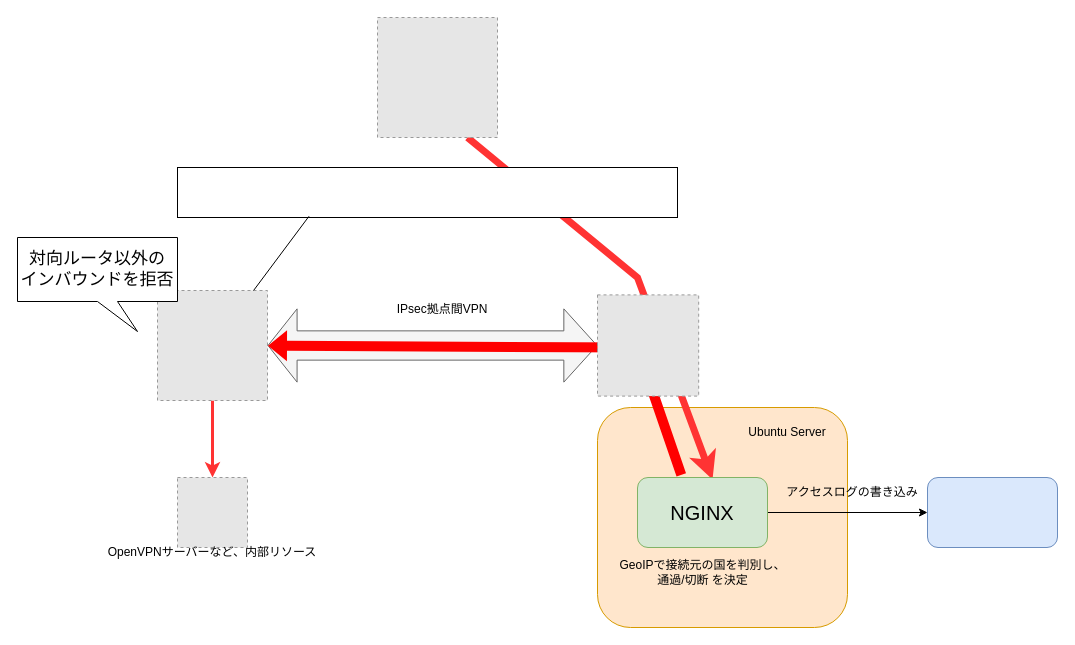
Some shapes in this 1075 by 645 pixel diagram are drawn without their labels. Grey dashed boxes stand in for pictures. The centre of each missing label's shape, as x and y in pixels:
MariaDB (さくらのクラウド): (992,512)
インターネット: (427,192)
